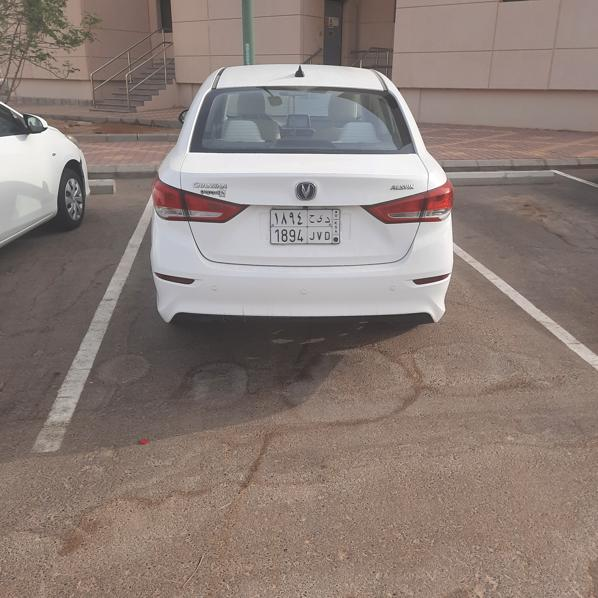numberplate: (271, 208, 340, 244)
